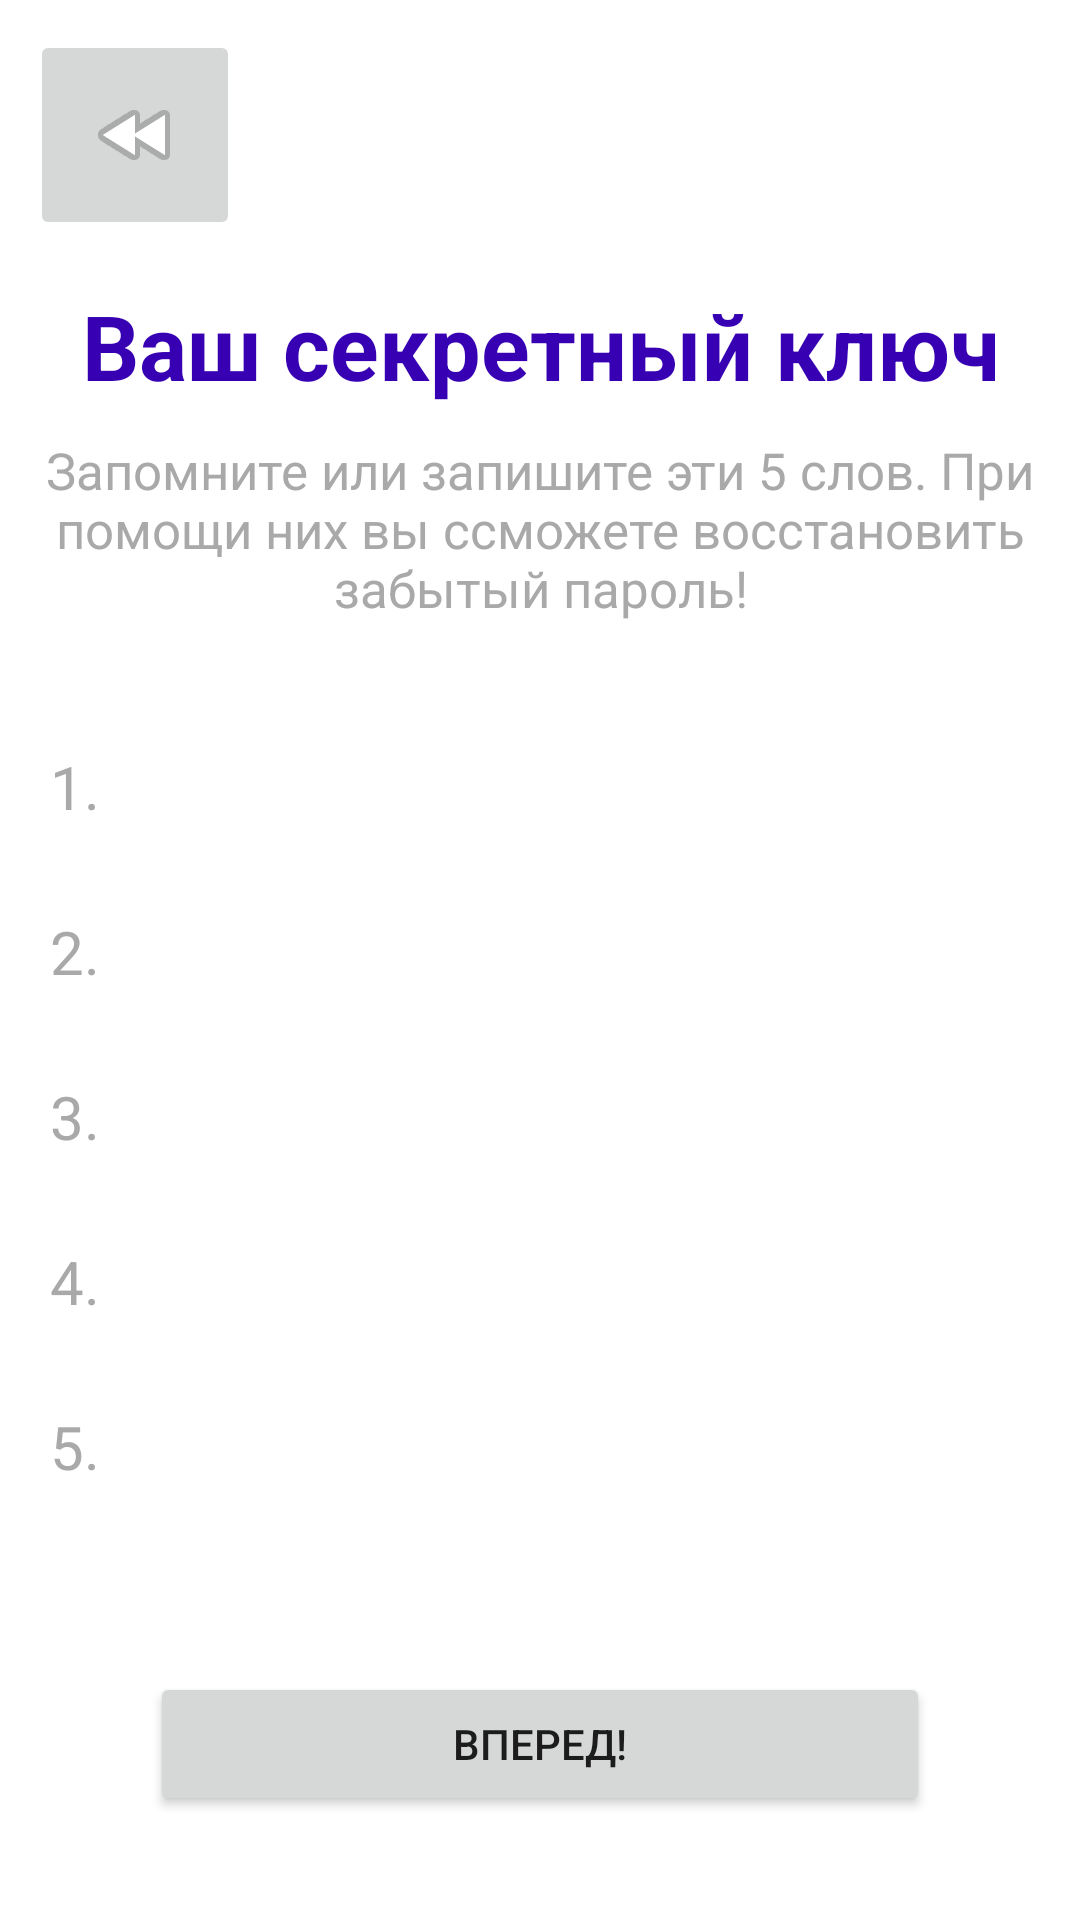

Screen size 1080px×1920px. Icon name, then its box in pixels as region(x1, y1, x2, y2):
rew: region(42, 48, 228, 222)
